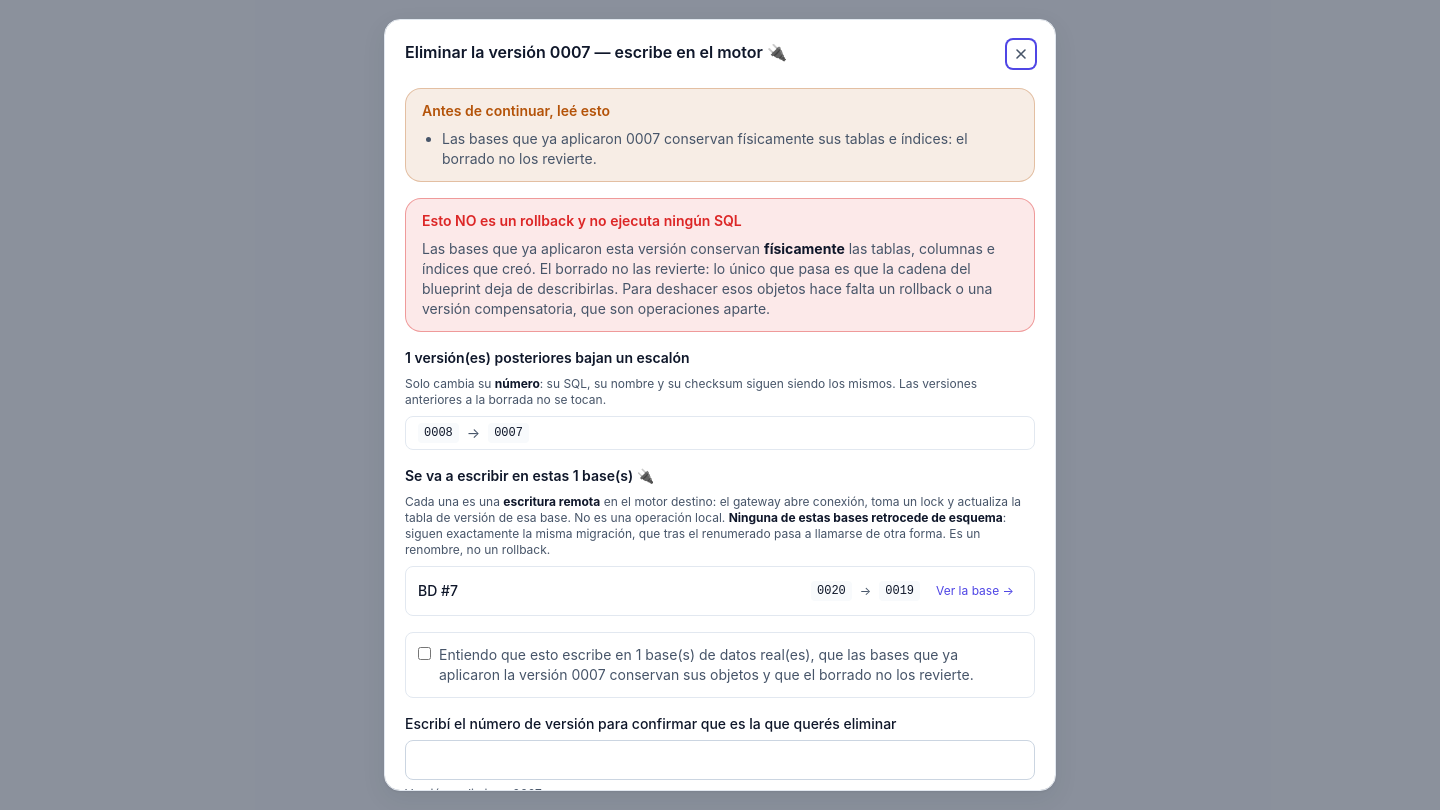
Test: MigrationDeletePlanDialog › un `renumber_stamp_failed` COMPENSADO deja reintentar
Click the checkbox.
click(424, 654)  # box [418,647,431,660]
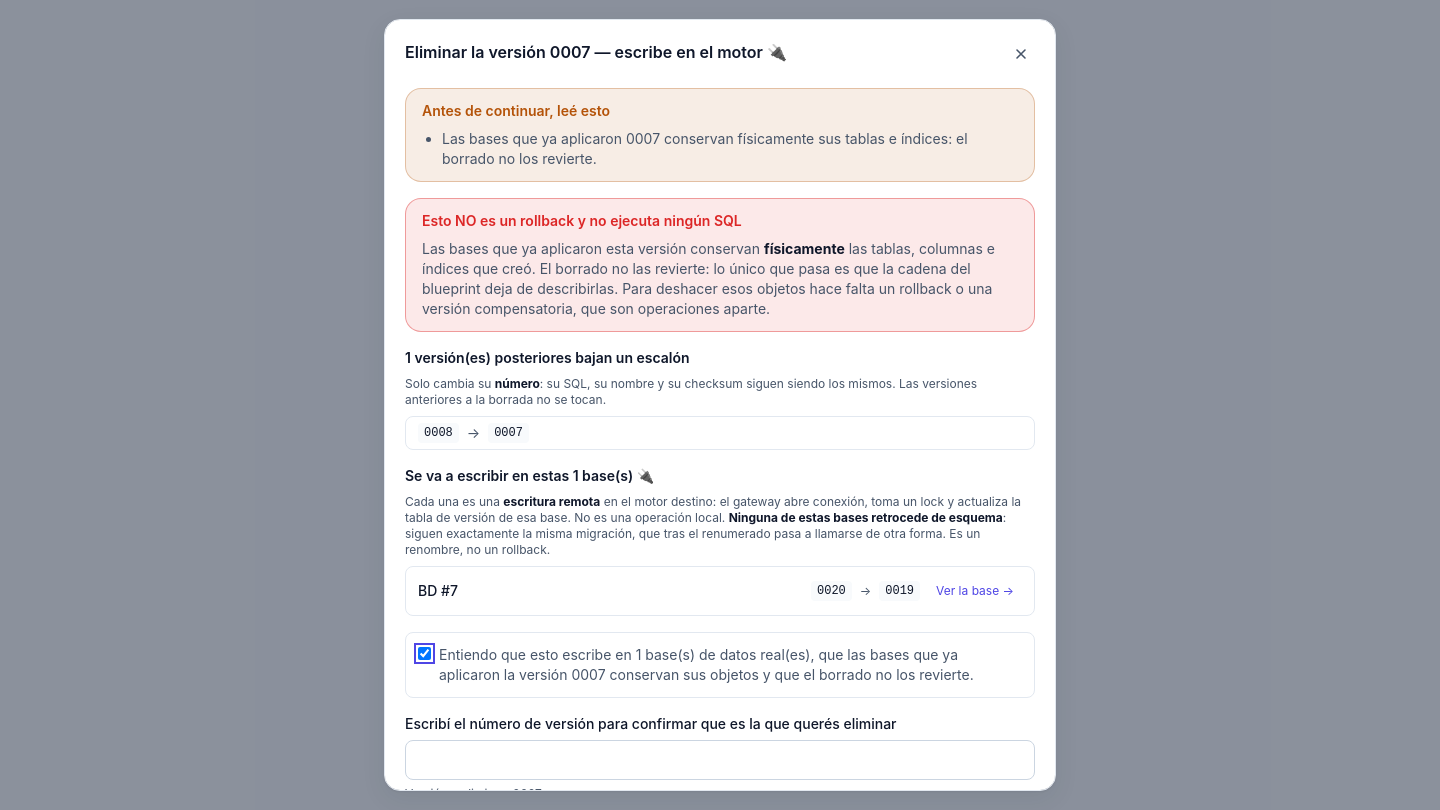
Type "0007" into the field labelled "Escribí el número de versión".
click(720, 760); type("0007")  # box [405,740,1035,780]
(page scrolled)
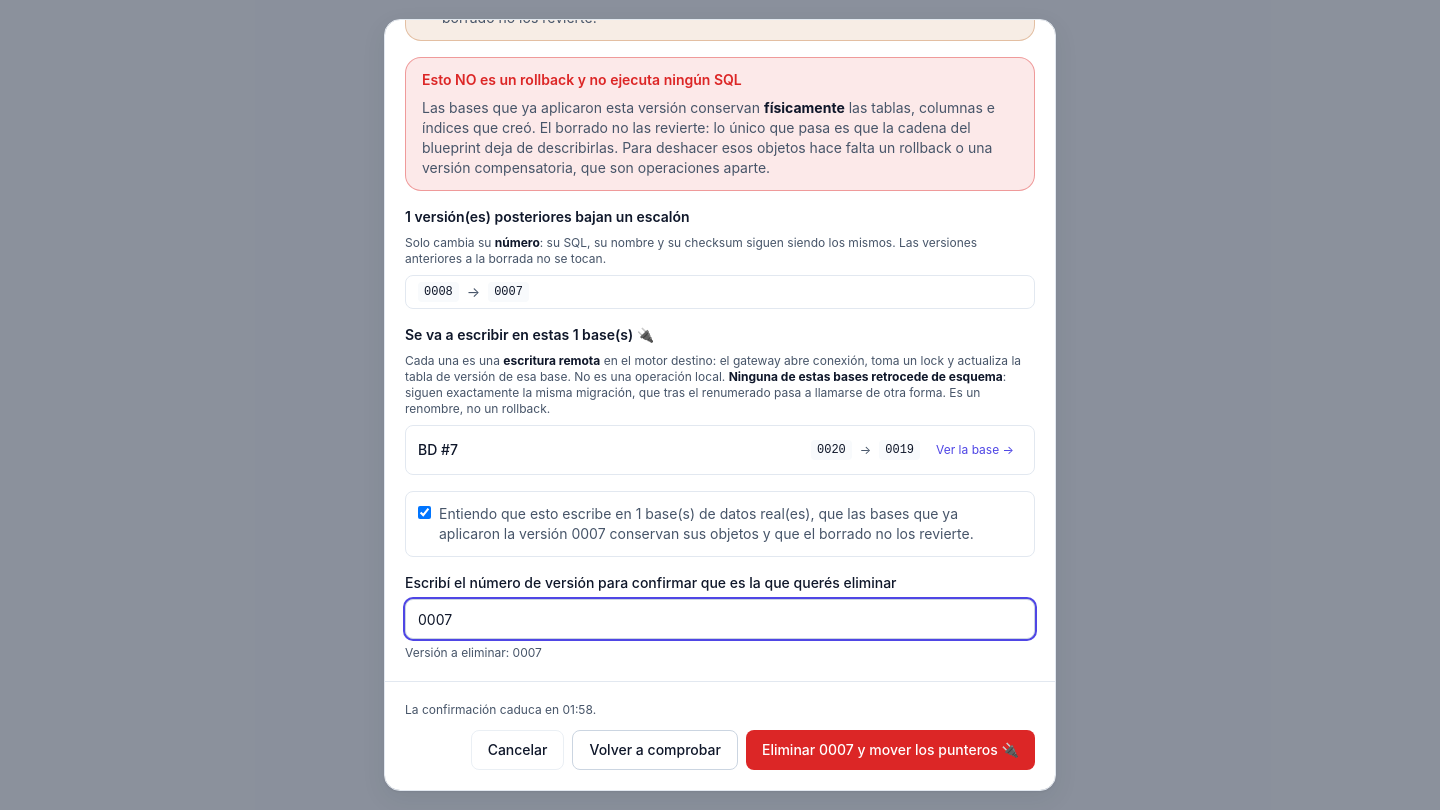
Click the button "Eliminar 0007 y mover los punteros 🔌".
click(890, 750)  # box [746,730,1035,770]
(page scrolled)
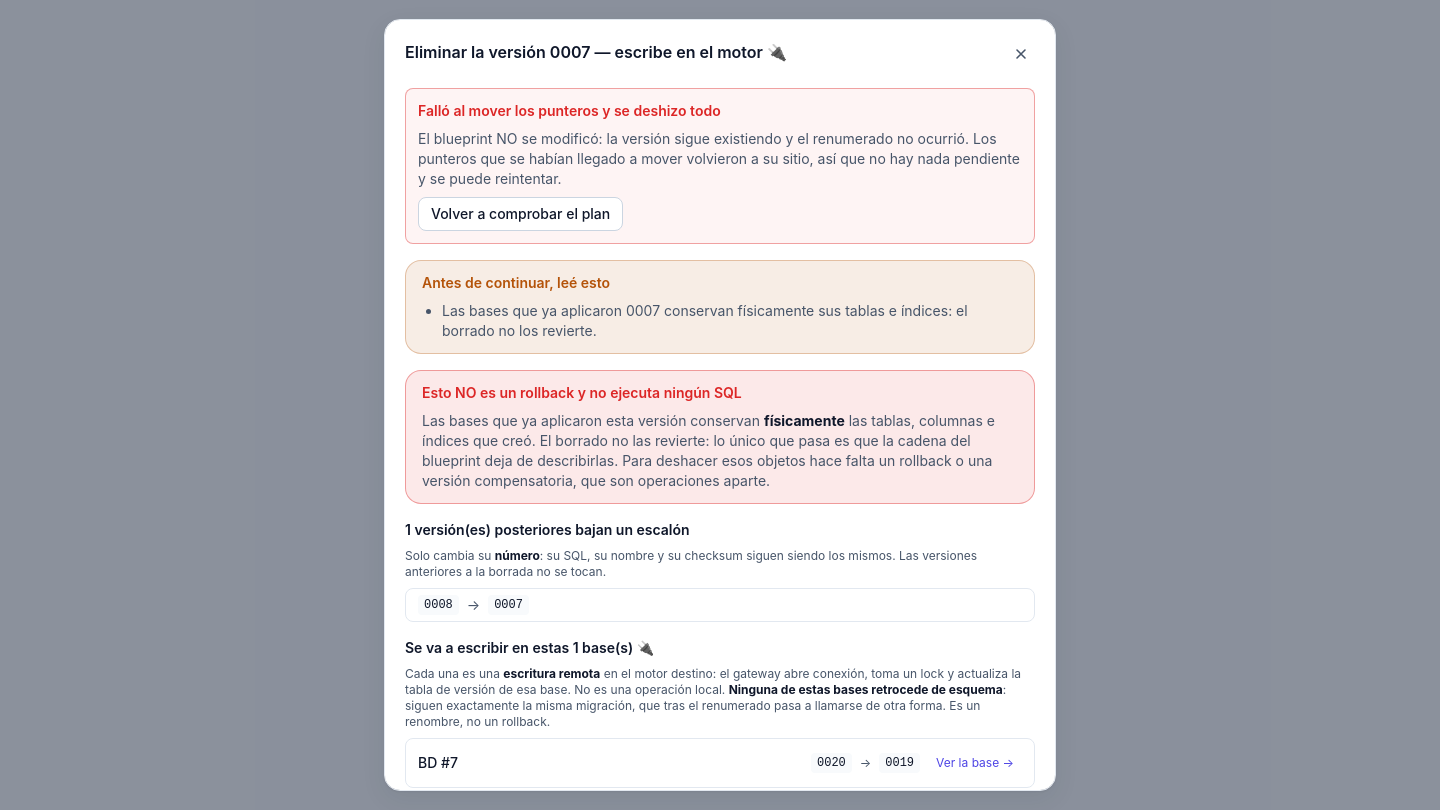
Expected: the text "Falló al mover los punteros y se deshizo todo" is shown, [418,102,721,119]
Expected: the button "Volver a comprobar el plan" is shown, [418,197,623,231]
